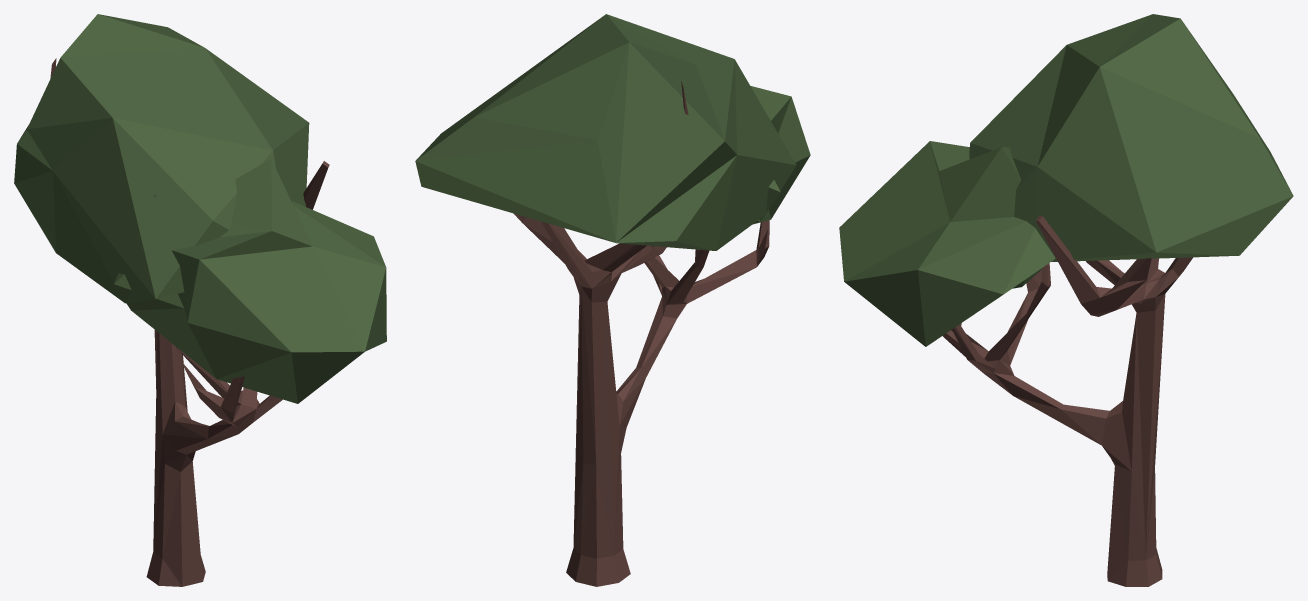
The model's file is CommonTree_2_lod.glb.
3 renders of one model, left to right at view 1: azimuth 30°, elevation 25°; view 2: azimuth 150°, elevation 25°; view 3: azimuth 270°, elevation 25°, orthographic. The views are drawn at different scales.
Visible parts, largest first — view 1: CommonTree_2; view 2: CommonTree_2; view 3: CommonTree_2.
Boxes of the visible parts, bbox=[...] form: CommonTree_2: bbox=[14, 14, 386, 586]; CommonTree_2: bbox=[415, 14, 810, 586]; CommonTree_2: bbox=[839, 14, 1293, 586].
Bounding box in the file's own units: 1.65 × 3.12 × 2.42.
